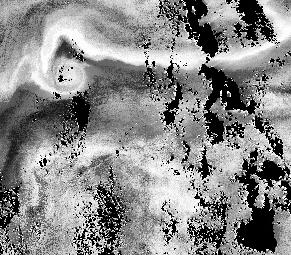CE: (38, 52, 88, 95)
